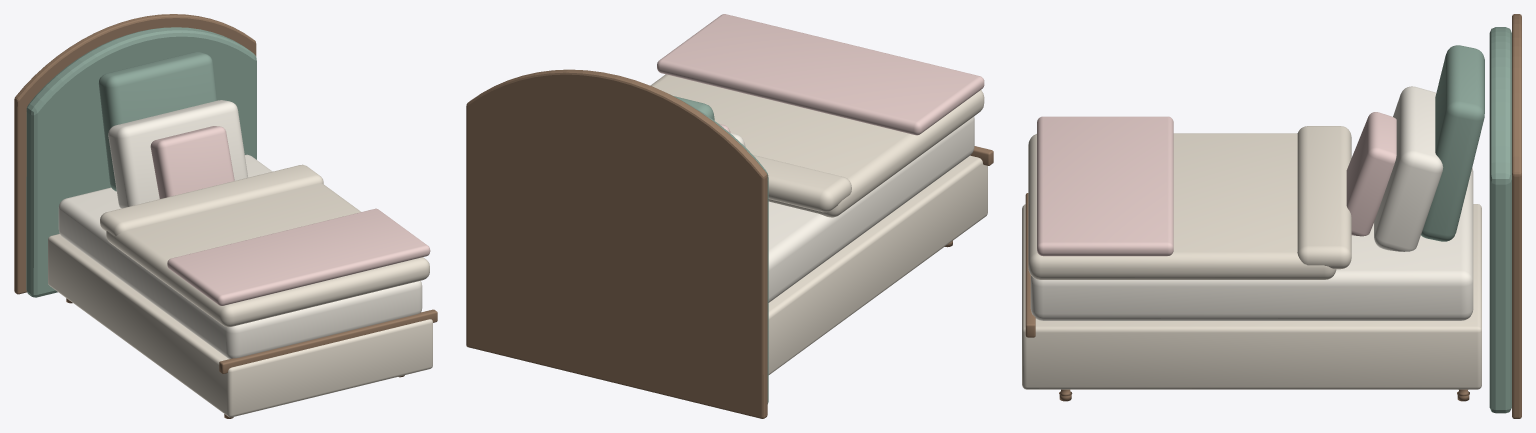
The model's file is bed_single.glb.
3 views of the same model, side by side, from view 1: azimuth 30°, elevation 25°; view 2: azimuth 150°, elevation 25°; view 3: azimuth 270°, elevation 25° (orthographic). The views are drawn at different scales.
Parts seen in each view (by area): view 1: base, headboard, duvet, mattress, throw, euro0, pillow0, hbframe, fold, cush, rail; view 2: hbframe, throw, base, duvet, mattress, fold, headboard; view 3: base, mattress, duvet, throw, headboard, euro0, fold, pillow0, cush, hbframe, rail.
Part boxes in pixels (bbox=[...]): base: bbox=[48, 234, 432, 417]; headboard: bbox=[26, 27, 256, 297]; duvet: bbox=[106, 183, 429, 327]; mattress: bbox=[58, 154, 422, 358]; throw: bbox=[167, 208, 430, 305]; euro0: bbox=[98, 52, 217, 191]; pillow0: bbox=[108, 100, 248, 208]; hbframe: bbox=[14, 14, 256, 294]; fold: bbox=[100, 164, 323, 235]; cush: bbox=[150, 126, 234, 198]; rail: bbox=[219, 309, 437, 373]; hbframe: bbox=[466, 69, 767, 418]; throw: bbox=[657, 14, 984, 135]; base: bbox=[768, 155, 987, 374]; duvet: bbox=[650, 74, 984, 217]; mattress: bbox=[768, 116, 974, 302]; fold: bbox=[753, 155, 851, 212]; headboard: bbox=[670, 94, 768, 403]; base: bbox=[1022, 204, 1481, 389]; mattress: bbox=[1030, 168, 1473, 320]; duvet: bbox=[1028, 133, 1336, 279]; throw: bbox=[1037, 116, 1173, 256]; headboard: bbox=[1489, 27, 1511, 413]; euro0: bbox=[1421, 45, 1484, 241]; fold: bbox=[1297, 126, 1351, 269]; pillow0: bbox=[1374, 86, 1443, 251]; cush: bbox=[1346, 112, 1396, 236]; hbframe: bbox=[1512, 14, 1521, 418]; rail: bbox=[1025, 193, 1035, 337].
Bounding box in the file's own units: 1.4 × 1.37 × 2.01.
